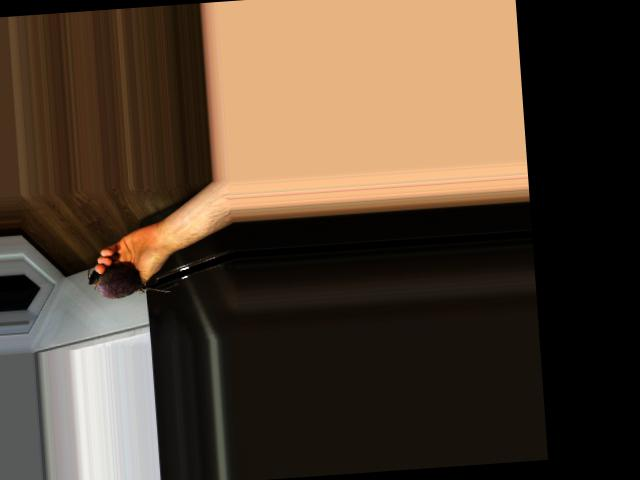beet: (86, 262, 170, 300)
